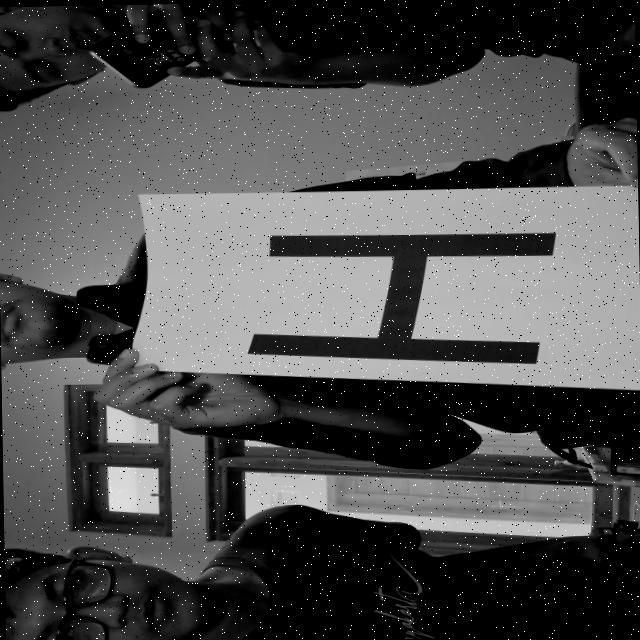h: (230, 218, 568, 377)
